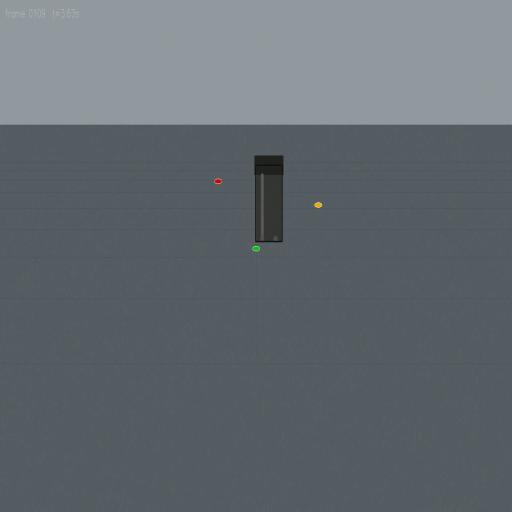bin: (254, 155, 284, 243)
